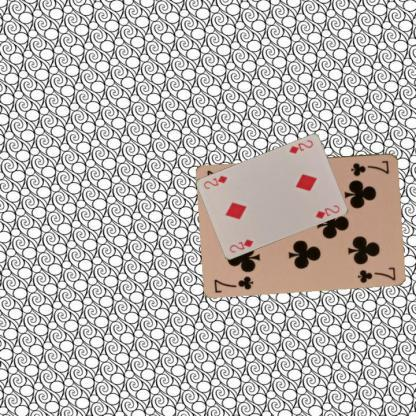2d: (228, 236, 255, 254), (287, 138, 314, 156)
7c: (212, 273, 255, 294), (348, 158, 390, 177)
